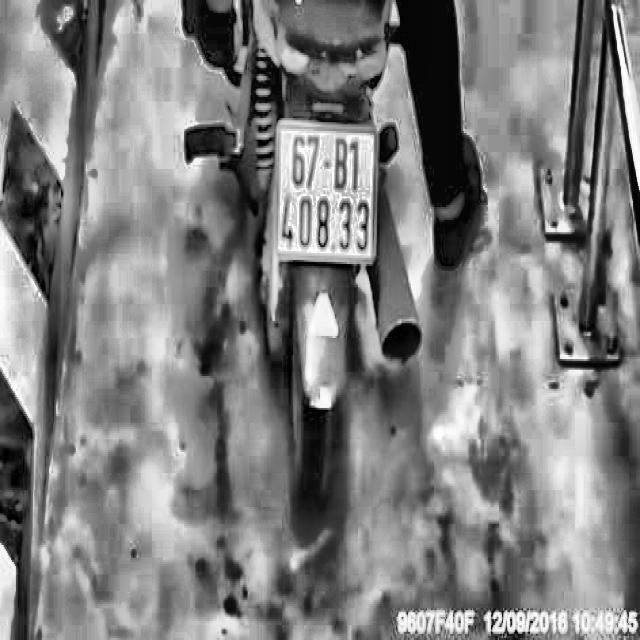plate: (270, 113, 382, 270)
